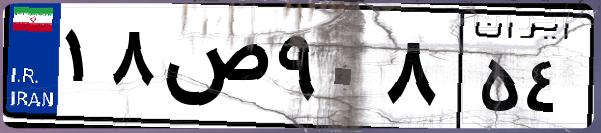0: (330, 28, 385, 110)
1: (57, 26, 110, 100)
4: (525, 38, 570, 115)
5: (475, 38, 525, 113)
8: (385, 28, 445, 110), (110, 28, 158, 98)
9: (270, 28, 330, 110)
ص: (158, 20, 270, 120)
